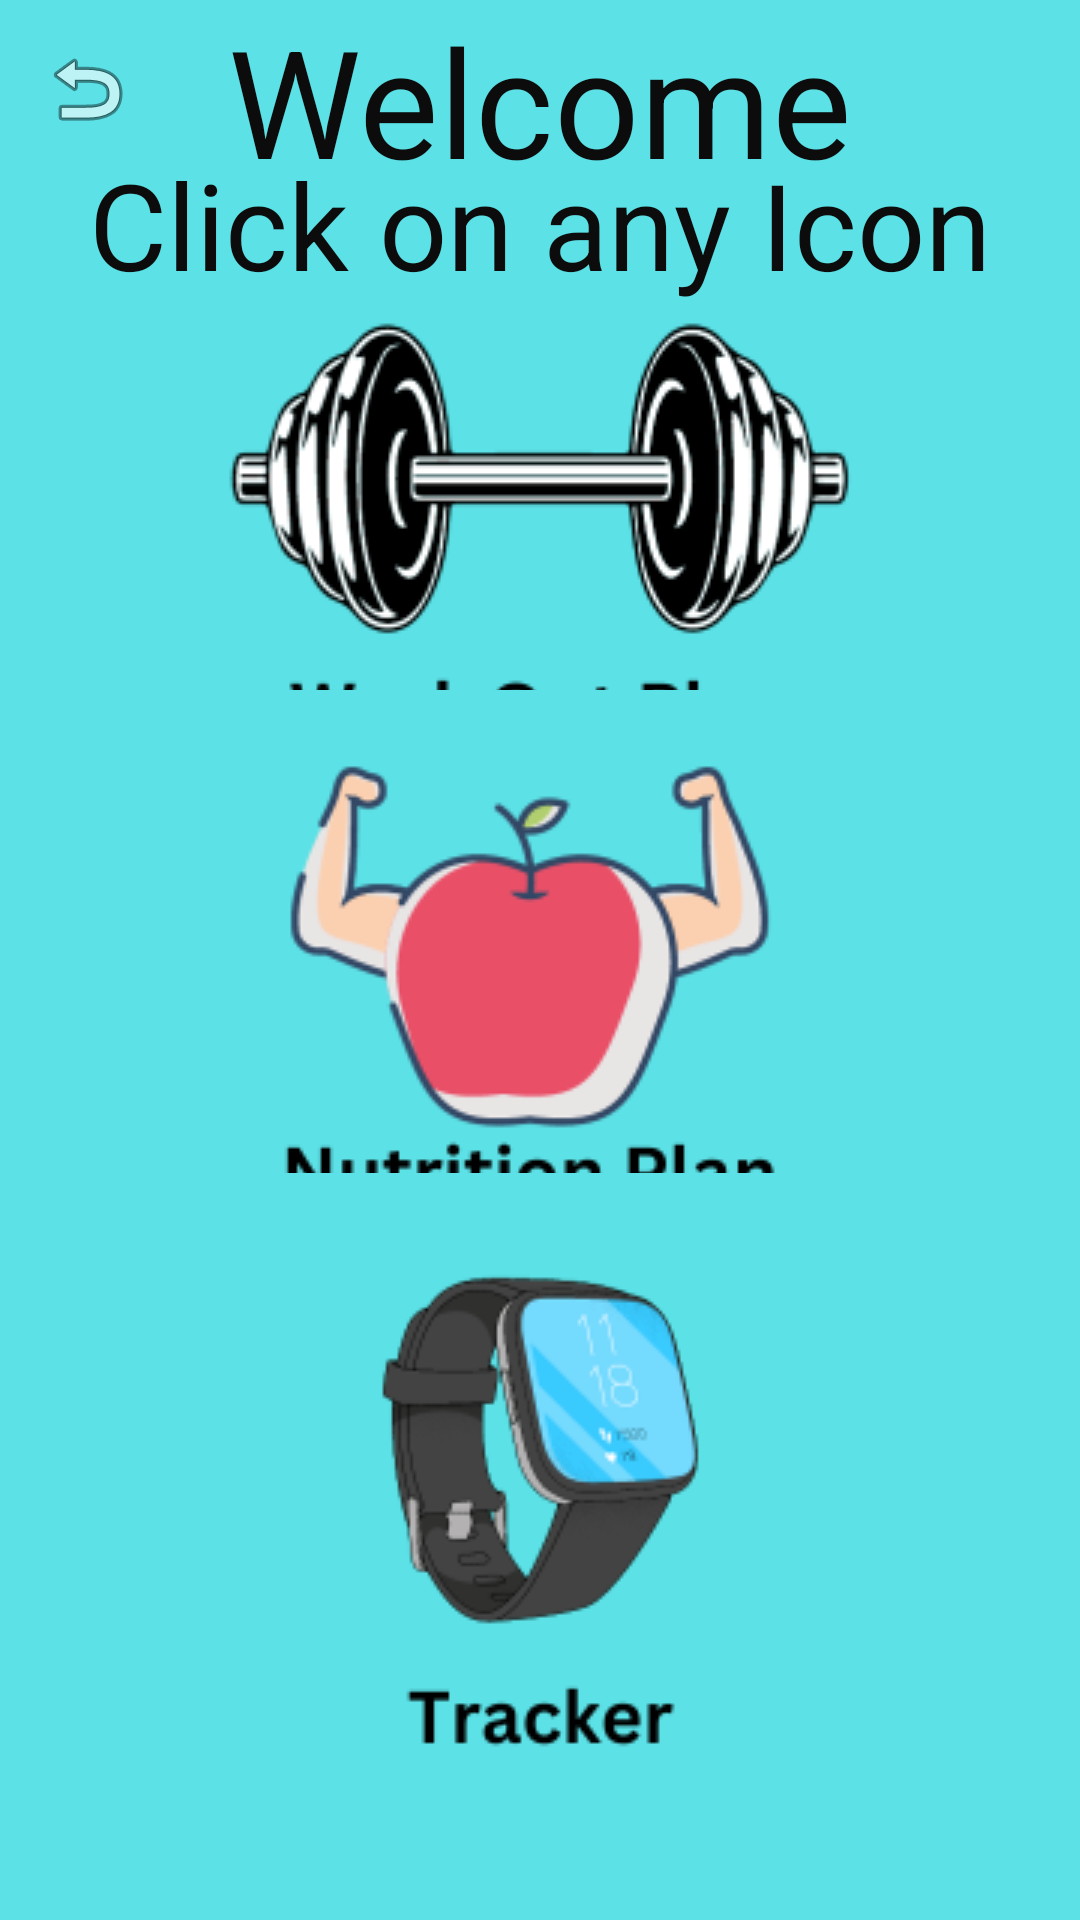

Named icons in this screenshot (1080px x 1920px) and their bounding boxes, (x1, y1, x2, y2):
revert: (54, 58, 123, 121)
